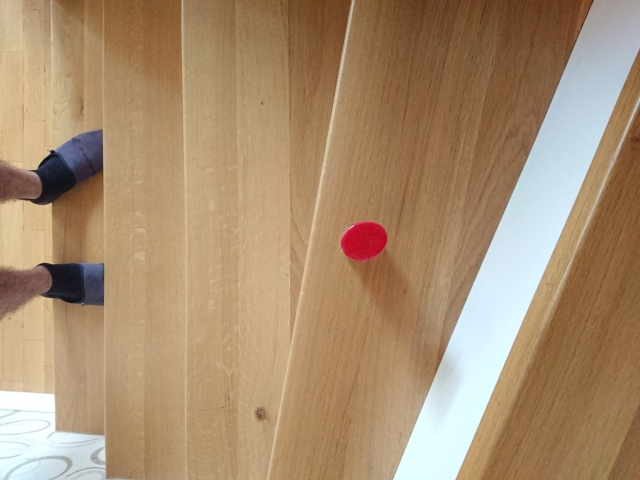Kotanyi Curry Spices Mix 70g: (339, 219, 390, 264)
